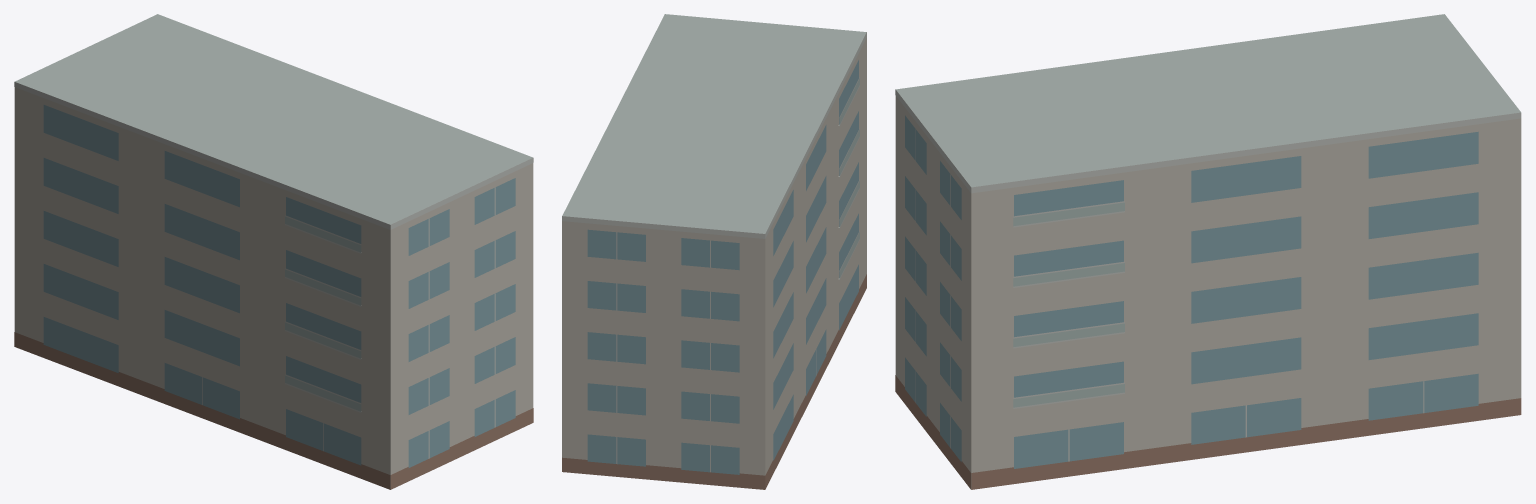
The model's file is survey-upis-32621371.glb.
3 views of the same model, side by side, from view 1: azimuth 30°, elevation 25°; view 2: azimuth 150°, elevation 25°; view 3: azimuth 270°, elevation 25° (orthographic). The views are drawn at different scales.
Parts seen in each view (by area): view 1: survey-upis-32621371.tmp; view 2: survey-upis-32621371.tmp; view 3: survey-upis-32621371.tmp.
Part boxes in pixels (<box>): survey-upis-32621371.tmp: <box>14,14,533,489</box>; survey-upis-32621371.tmp: <box>562,14,866,489</box>; survey-upis-32621371.tmp: <box>895,14,1521,489</box>.
Bounding box in the file's own units: 15.32 × 12.45 × 23.36.
